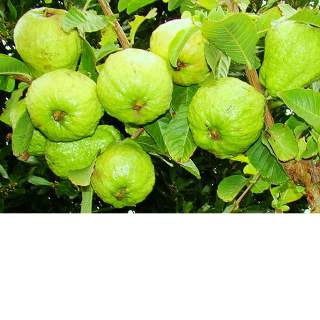oi: (183, 75, 267, 162), (24, 67, 111, 146), (96, 46, 176, 128), (89, 139, 156, 207)
